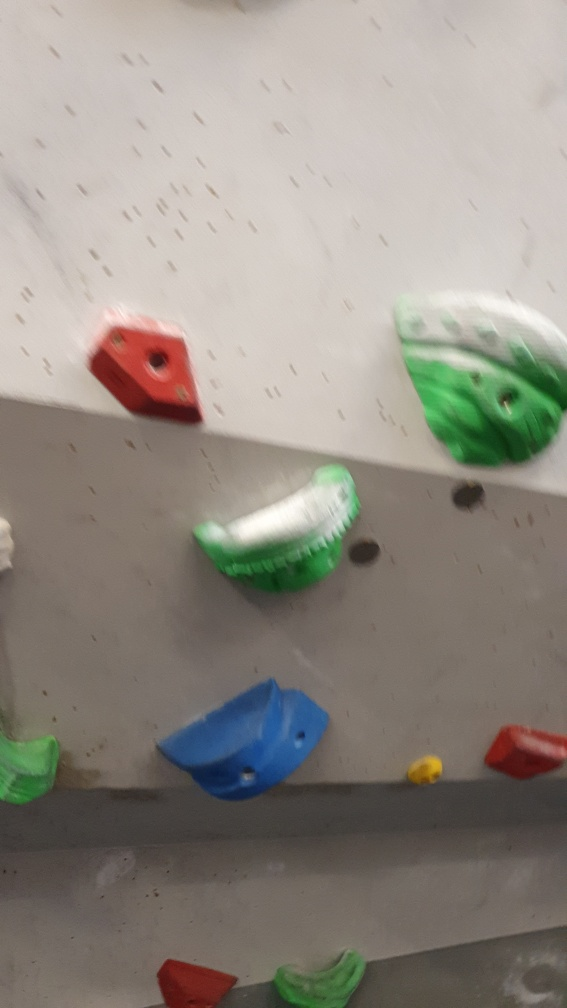Crimp: (85, 301, 211, 431), (484, 718, 567, 783)
Hand Start: (346, 535, 389, 574), (447, 477, 487, 513)
Jug: (383, 282, 566, 467), (188, 464, 369, 598), (271, 944, 364, 1008)
Pinch: (151, 675, 331, 809)
